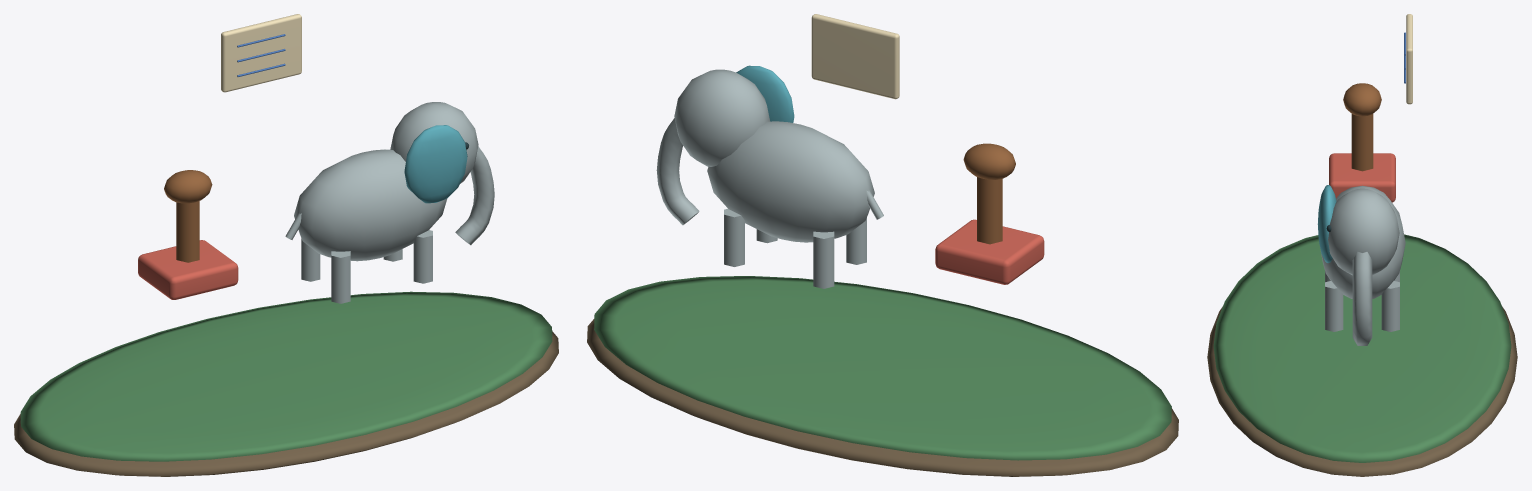
The model's file is complete-third-elephant-impression.glb.
3 views of the same model, side by side, from view 1: azimuth 30°, elevation 25°; view 2: azimuth 150°, elevation 25°; view 3: azimuth 270°, elevation 25° (orthographic). The views are drawn at different scales.
Parts seen in each view (by area): view 1: complete-third-elephant-impression_surface_01, complete-third-elephant-impression_surface_04, complete-third-elephant-impression_surface_00, complete-third-elephant-impression_surface_07, complete-third-elephant-impression_surface_02, complete-third-elephant-impression_surface_05, complete-third-elephant-impression_surface_03; view 2: complete-third-elephant-impression_surface_01, complete-third-elephant-impression_surface_04, complete-third-elephant-impression_surface_00, complete-third-elephant-impression_surface_07, complete-third-elephant-impression_surface_02, complete-third-elephant-impression_surface_03, complete-third-elephant-impression_surface_05; view 3: complete-third-elephant-impression_surface_01, complete-third-elephant-impression_surface_04, complete-third-elephant-impression_surface_00, complete-third-elephant-impression_surface_03, complete-third-elephant-impression_surface_02, complete-third-elephant-impression_surface_05, complete-third-elephant-impression_surface_07.
Boxes of the visible parts, x1,y1,x2,y2 form: complete-third-elephant-impression_surface_01: (20, 291, 552, 461); complete-third-elephant-impression_surface_04: (285, 102, 494, 303); complete-third-elephant-impression_surface_00: (14, 331, 558, 476); complete-third-elephant-impression_surface_07: (221, 14, 301, 92); complete-third-elephant-impression_surface_02: (138, 240, 238, 299); complete-third-elephant-impression_surface_05: (404, 125, 467, 203); complete-third-elephant-impression_surface_03: (164, 170, 212, 262); complete-third-elephant-impression_surface_01: (594, 276, 1171, 460); complete-third-elephant-impression_surface_04: (656, 69, 883, 288); complete-third-elephant-impression_surface_00: (587, 319, 1178, 476); complete-third-elephant-impression_surface_07: (811, 14, 899, 99); complete-third-elephant-impression_surface_02: (935, 219, 1044, 284); complete-third-elephant-impression_surface_03: (963, 143, 1015, 244); complete-third-elephant-impression_surface_05: (736, 65, 794, 122); complete-third-elephant-impression_surface_01: (1213, 234, 1511, 462); complete-third-elephant-impression_surface_04: (1320, 185, 1405, 345); complete-third-elephant-impression_surface_00: (1207, 306, 1517, 476); complete-third-elephant-impression_surface_03: (1343, 83, 1381, 171); complete-third-elephant-impression_surface_02: (1329, 153, 1395, 202); complete-third-elephant-impression_surface_05: (1317, 185, 1336, 263); complete-third-elephant-impression_surface_07: (1406, 14, 1412, 104).
Bounding box in the file's own units: 4.56 × 3.03 × 2.5.
